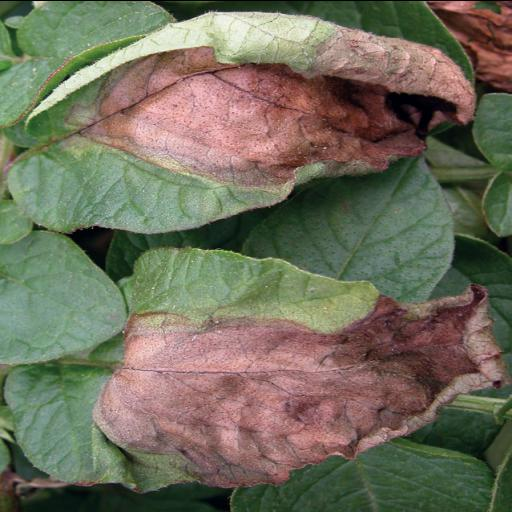disease_tomato: (0, 243, 506, 491), (1, 6, 484, 232)
